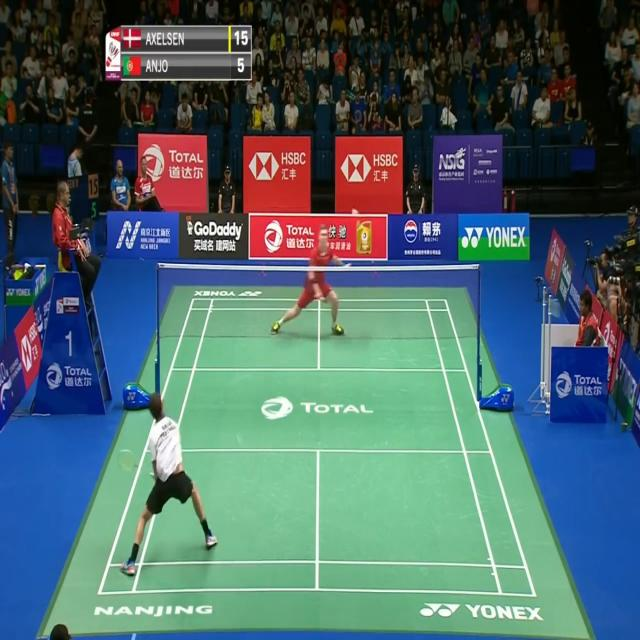Player1: (118, 388, 225, 580)
Player2: (266, 220, 354, 344)
